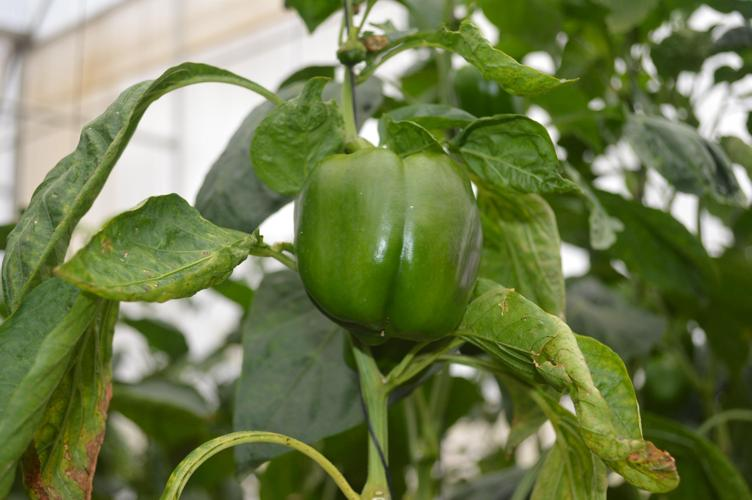BellPepper: (292, 139, 481, 348)
